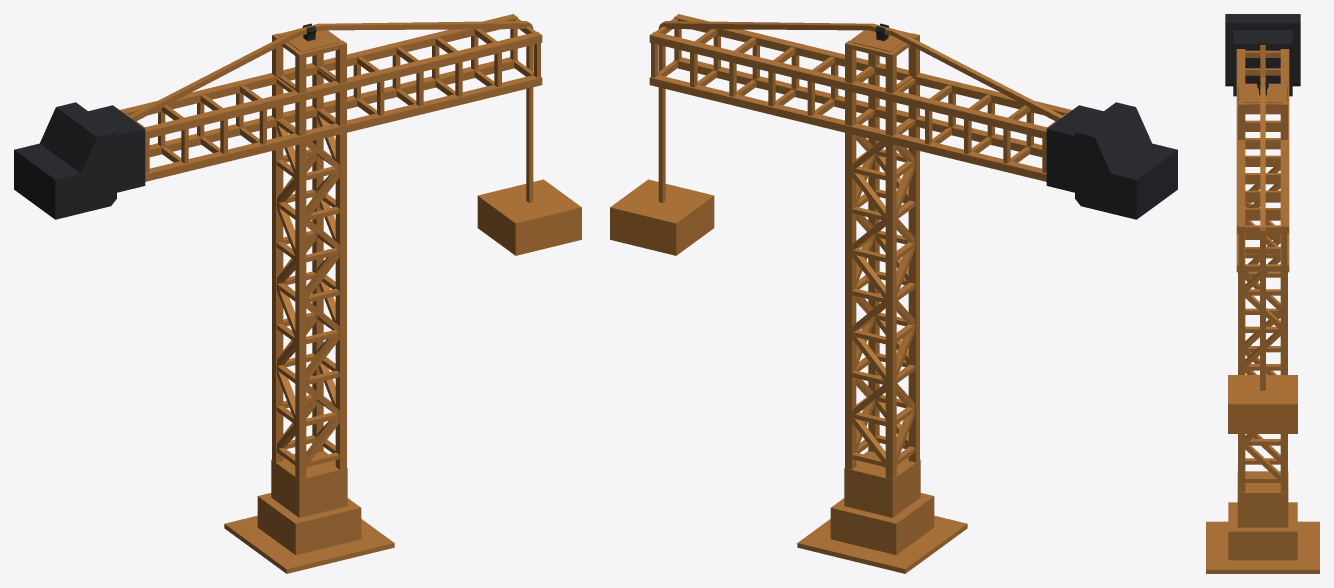
The model's file is Crane_1.fbx.
The picture shows the model from 3 angles, left to right: view 1: azimuth 30°, elevation 25°; view 2: azimuth 150°, elevation 25°; view 3: azimuth 270°, elevation 25°; orthographic projection. The views are drawn at different scales.
Visible parts, largest first — view 1: Crane_1; view 2: Crane_1; view 3: Crane_1.
Boxes of the visible parts, x1=… form: Crane_1: x1=14, y1=14, x2=581, y2=573; Crane_1: x1=610, y1=14, x2=1177, y2=573; Crane_1: x1=1206, y1=14, x2=1319, y2=573.
Bounding box in the file's own units: 1036 × 959 × 212.
